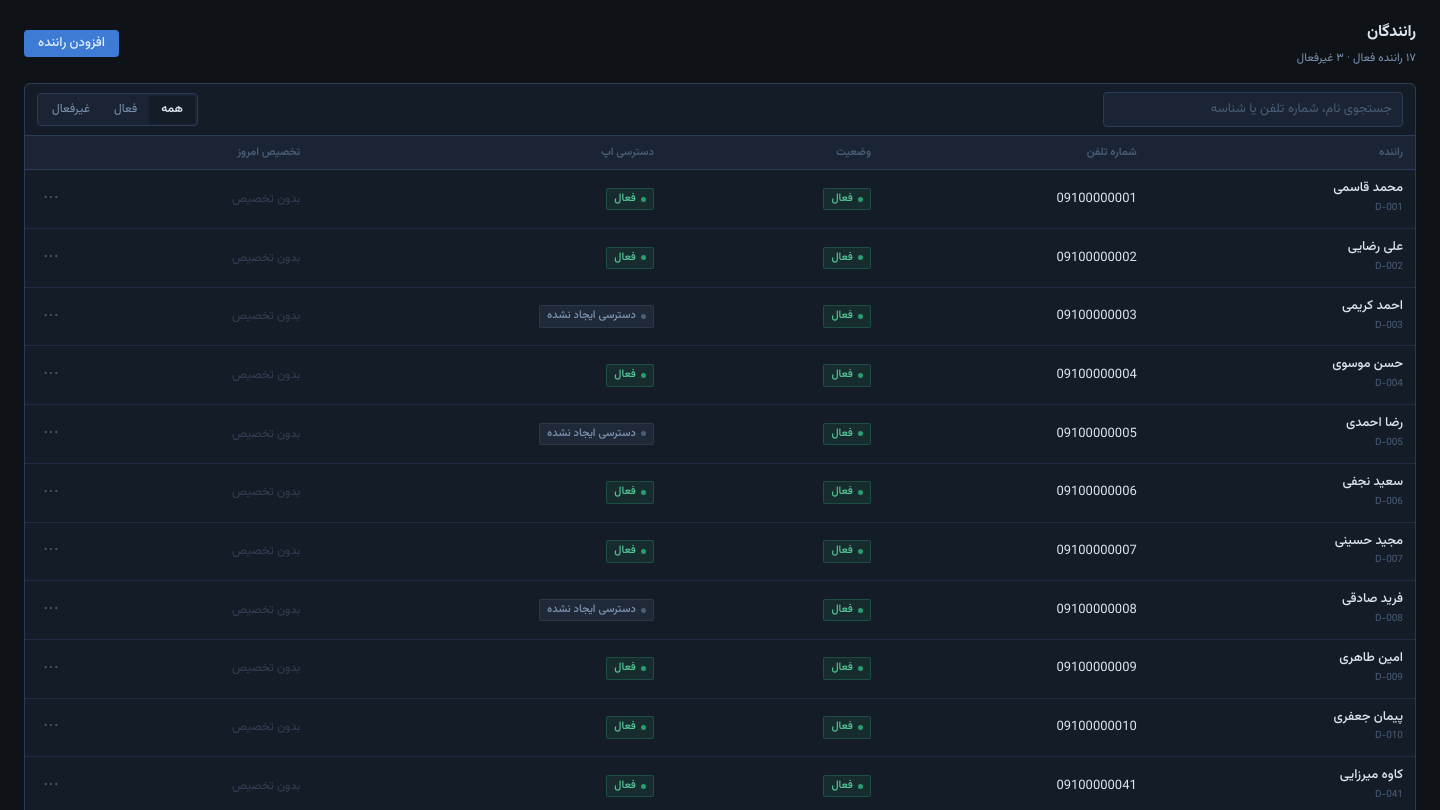
Scenario: A06 — App Access actions › shows App Access create dialog without credential exposure
This screenshot has width=1440, height=810.
Find corresponding menu button by index
Click the button with class "drv-menu-trigger" in the row of "احمد کریمی". click: {"x": 51, "y": 317}
box: [37, 305, 65, 329]
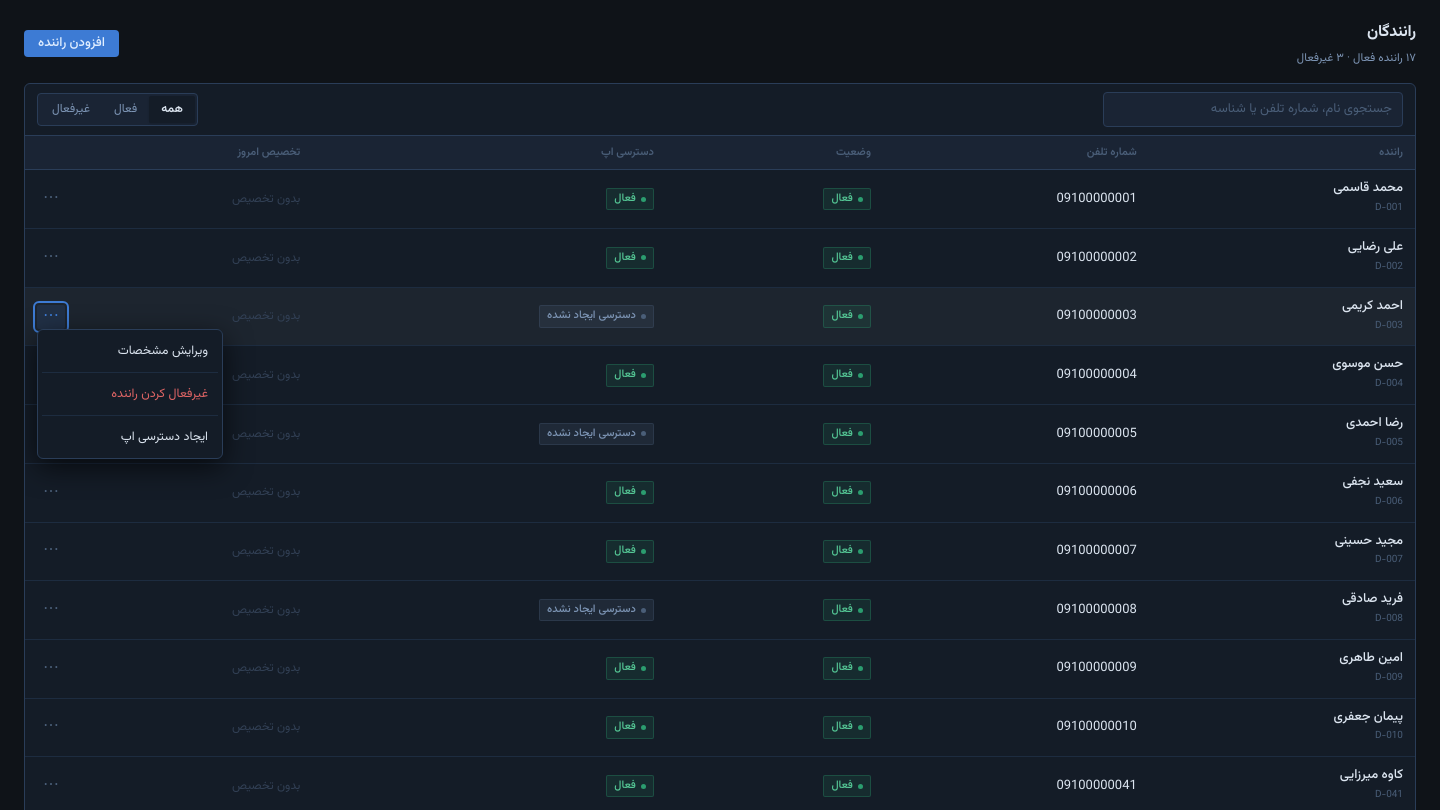
Click the menu item "ایجاد دسترسی اپ". click: {"x": 130, "y": 437}
box: [42, 420, 218, 454]
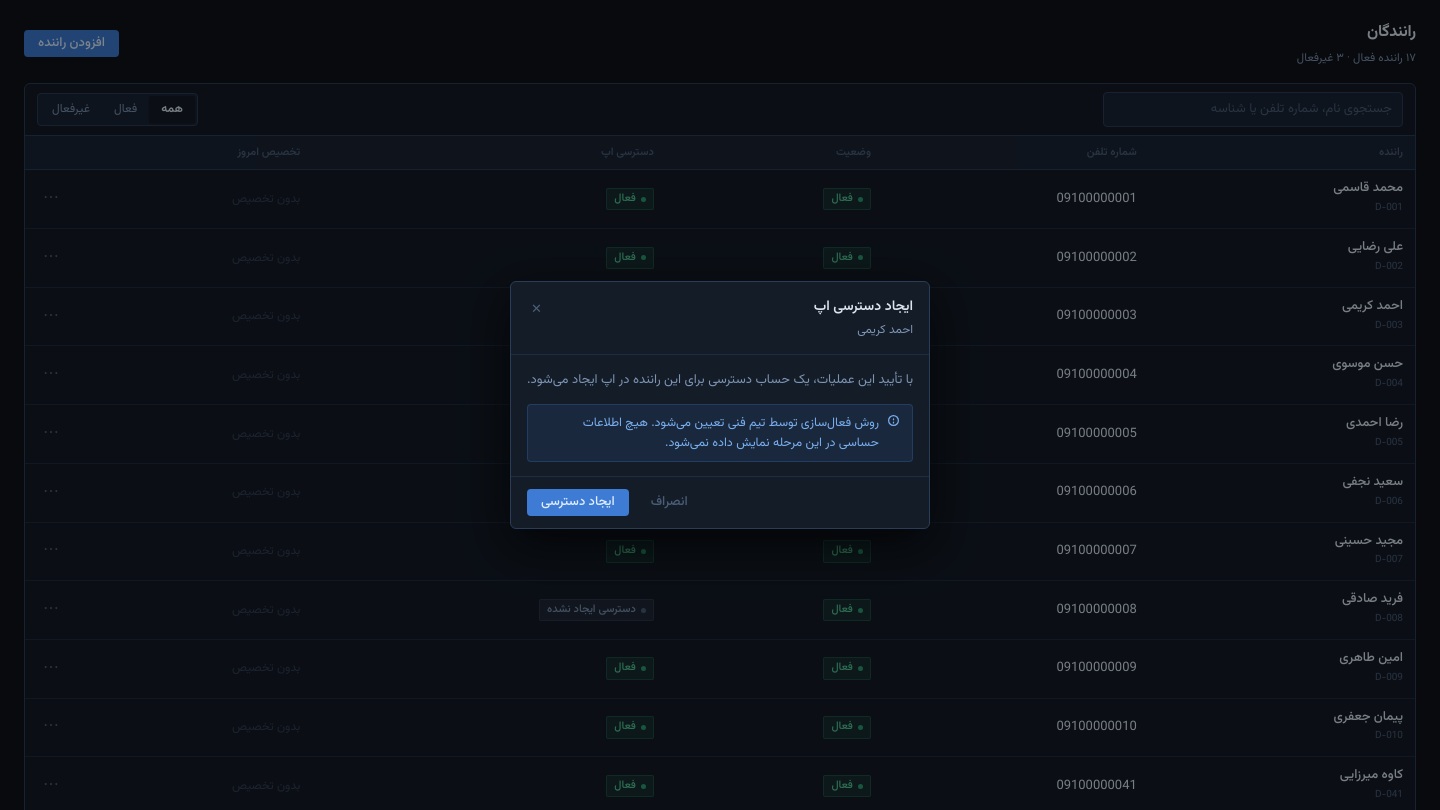
Check: the dialog "ایجاد دسترسی اپ" is shown, box [510, 281, 930, 529]
